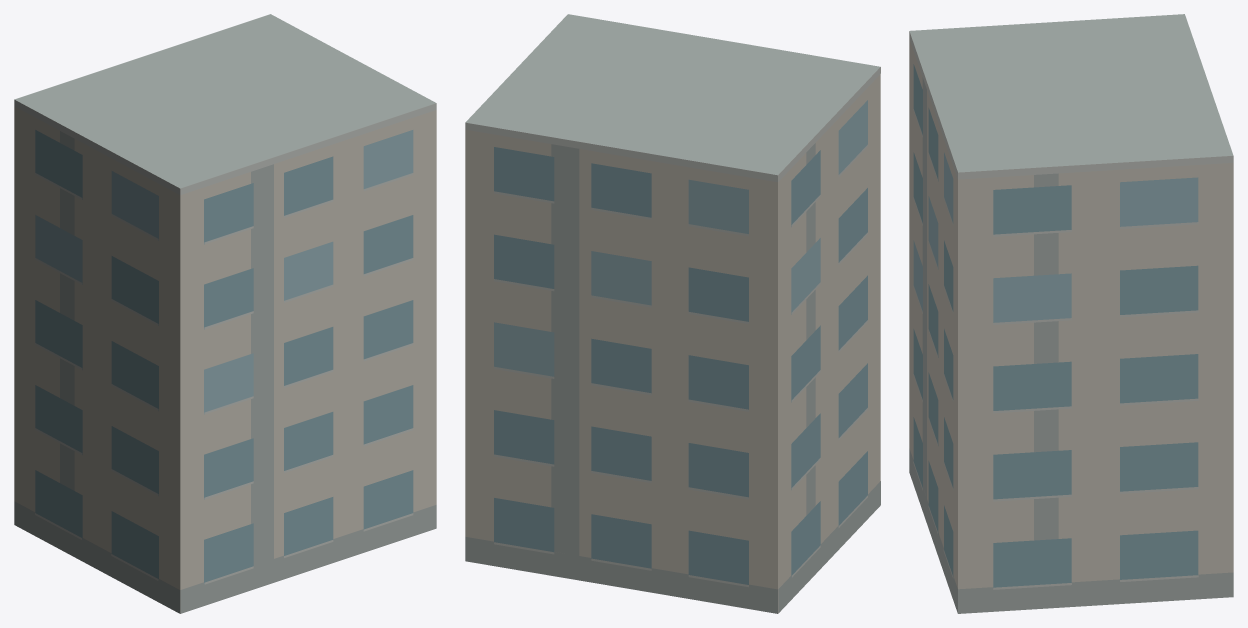
The model's file is residential-10c02736-aa11-4fdc-93db-ea8ff3aca225.glb.
3 renders of one model, left to right at view 1: azimuth 30°, elevation 25°; view 2: azimuth 150°, elevation 25°; view 3: azimuth 270°, elevation 25°, orthographic. The views are drawn at different scales.
Parts seen in each view (by area): view 1: residential-10c02736-aa11-4fdc-93db-ea8ff3aca225.tmp; view 2: residential-10c02736-aa11-4fdc-93db-ea8ff3aca225.tmp; view 3: residential-10c02736-aa11-4fdc-93db-ea8ff3aca225.tmp.
Part boxes in pixels (<box>): residential-10c02736-aa11-4fdc-93db-ea8ff3aca225.tmp: <box>14,14,436,613</box>; residential-10c02736-aa11-4fdc-93db-ea8ff3aca225.tmp: <box>465,14,880,613</box>; residential-10c02736-aa11-4fdc-93db-ea8ff3aca225.tmp: <box>909,14,1233,613</box>.
Bounding box in the file's own units: 11.76 × 15.25 × 10.16.
